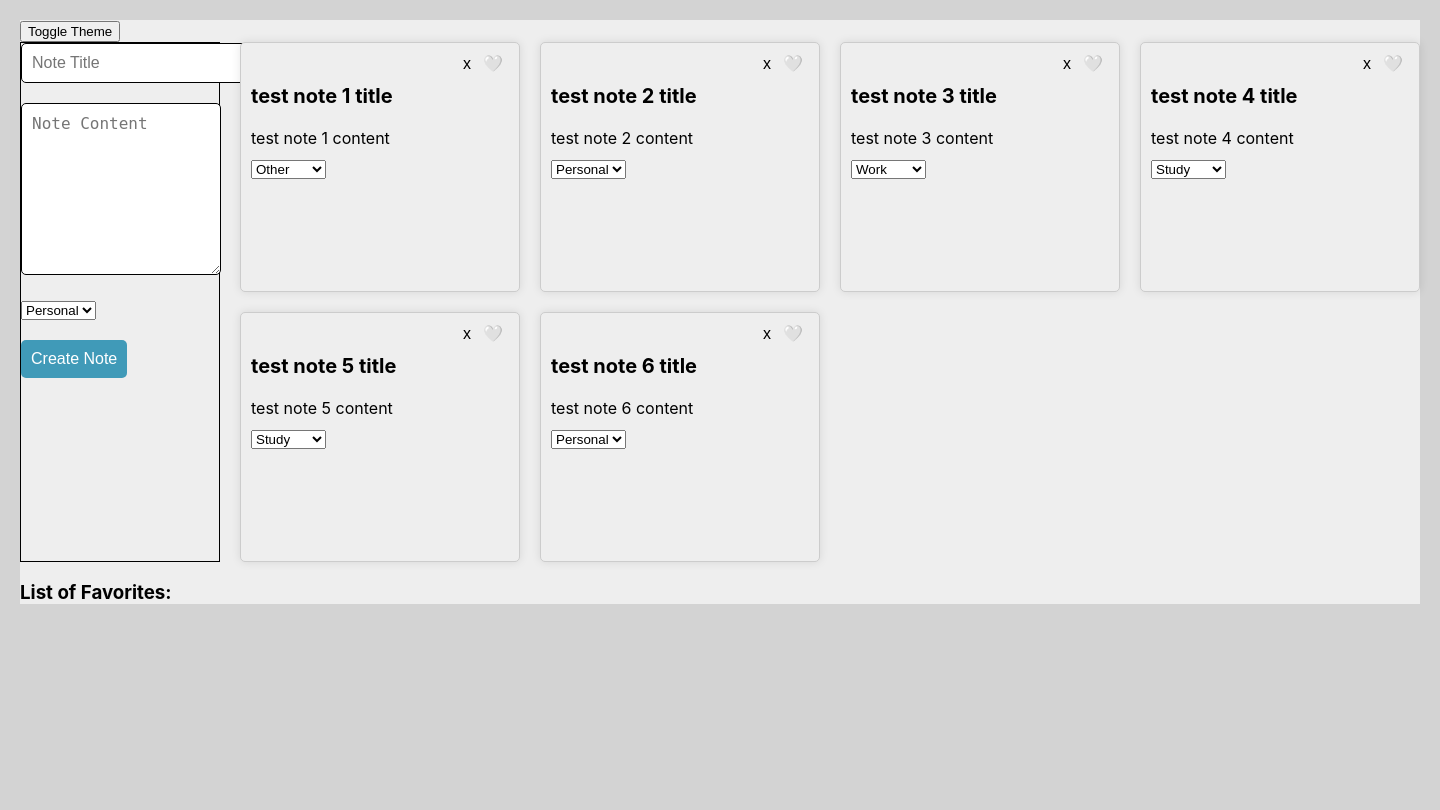
Test: Create StickyNote › creates a new note
Type "New Note" into the field with placeholder "Note Title" at {"x": 136, "y": 63}, box x1=21 y1=43 x2=250 y2=83
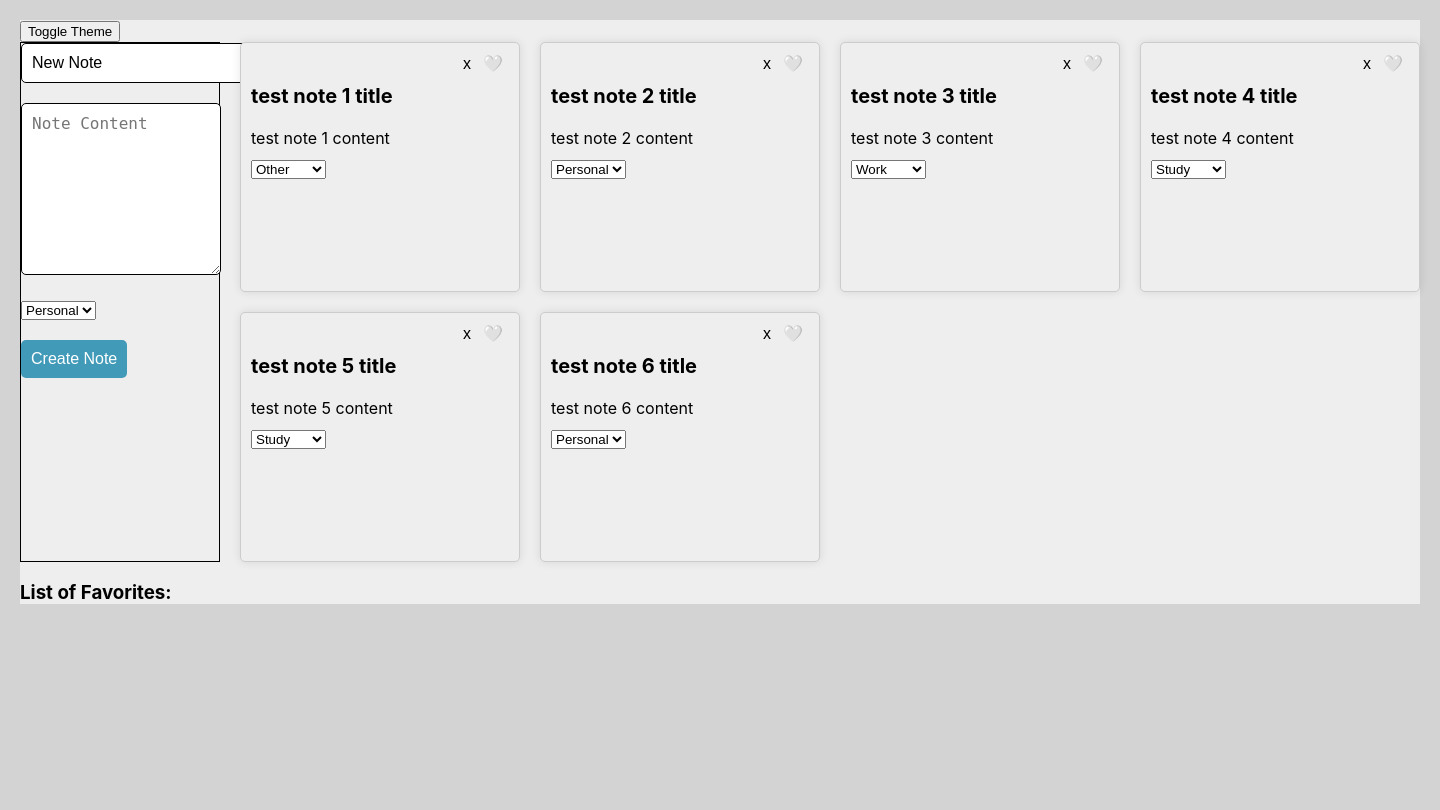
Type "Note content" into the text box with placeholder "Note Content" at {"x": 121, "y": 189}, box x1=21 y1=103 x2=221 y2=275
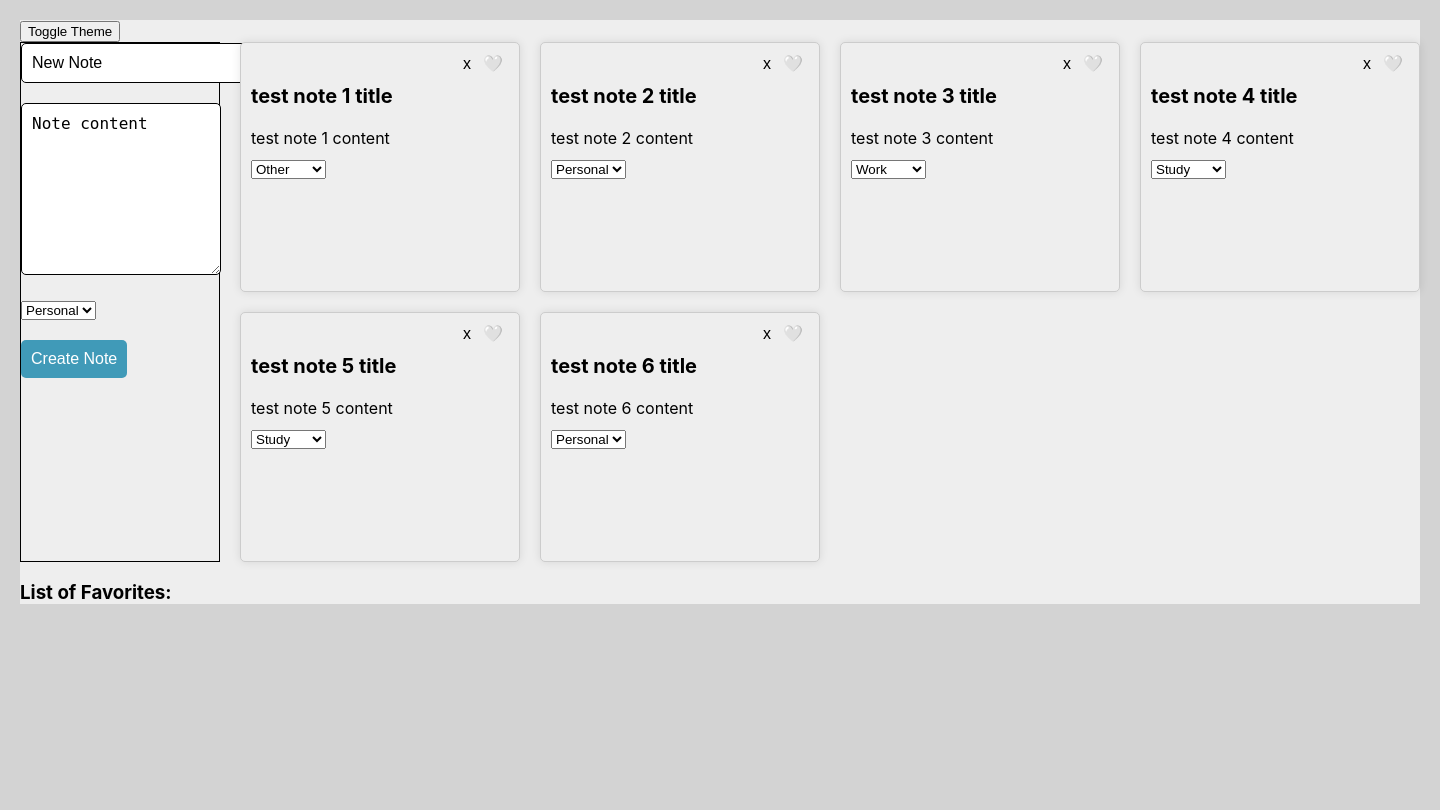
Click the button "Create Note" at {"x": 74, "y": 359}, box x1=21 y1=340 x2=127 y2=378
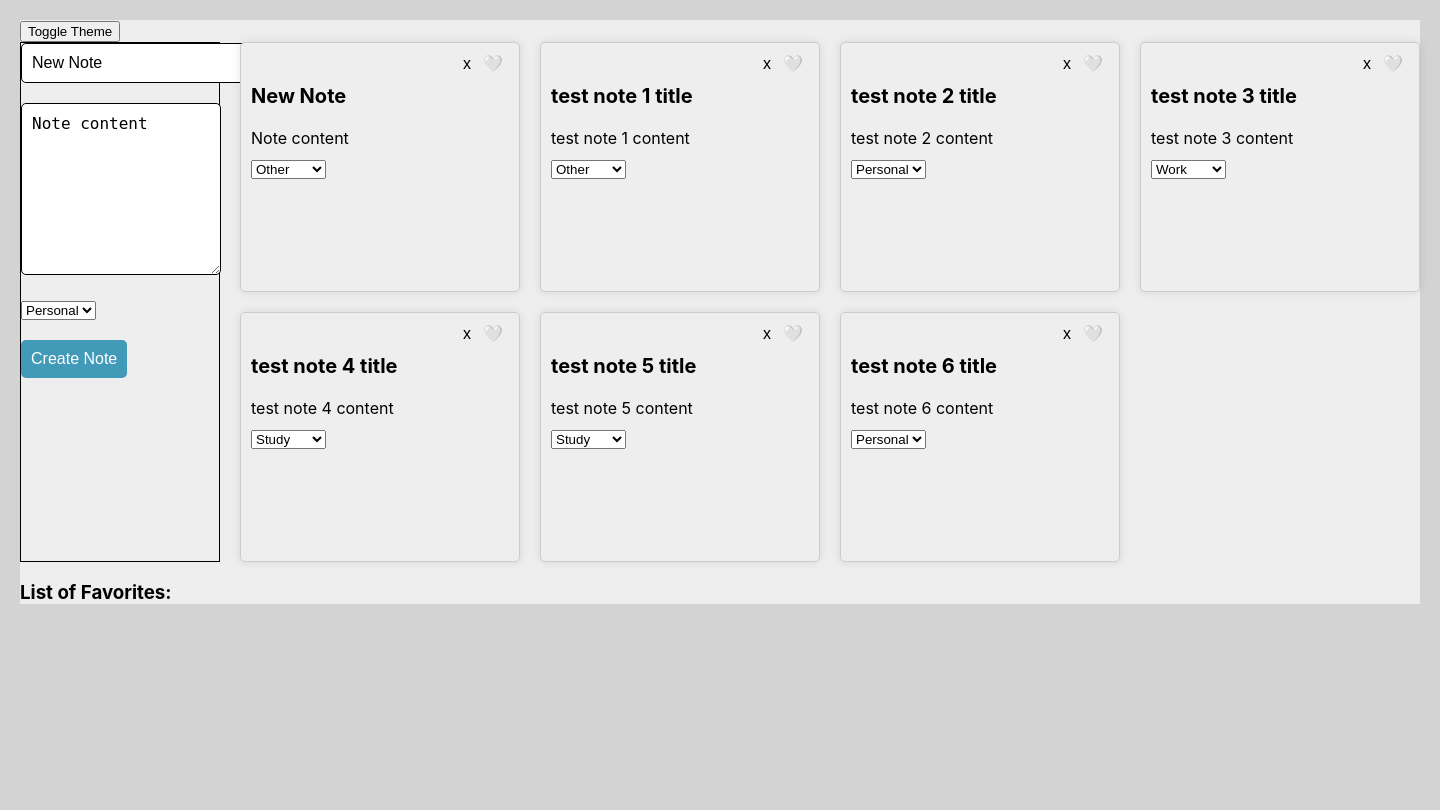
Now the text box "New Note" is shown, box x1=251 y1=84 x2=346 y2=108
Now the text box "Note content" is shown, box x1=251 y1=128 x2=349 y2=148
